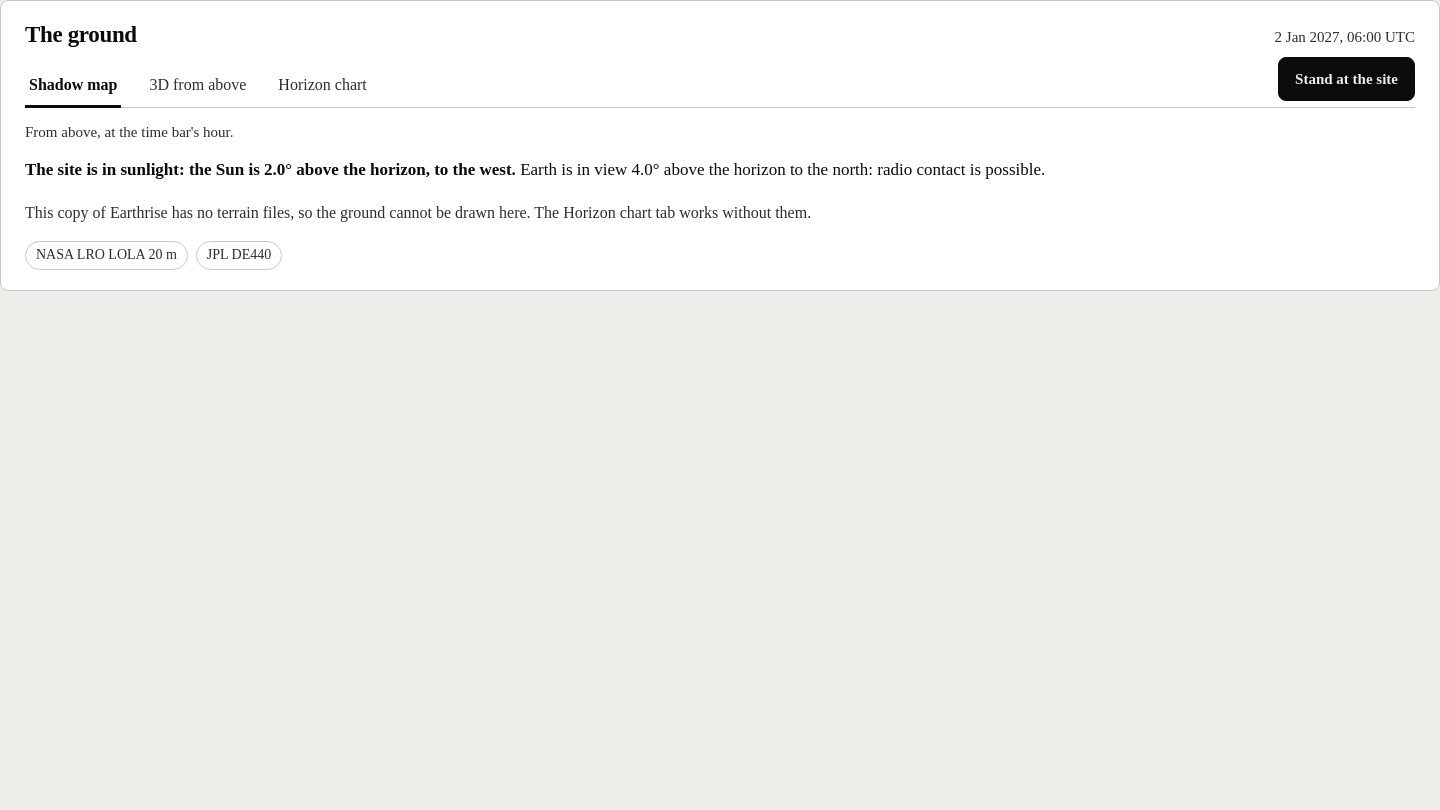
Test case: GroundPanel › titles the picture, says which hour it shows and mounts the 3D view in its tab
Click the tab "3D from above".
click(198, 86)  # box x1=146 y1=64 x2=250 y2=108
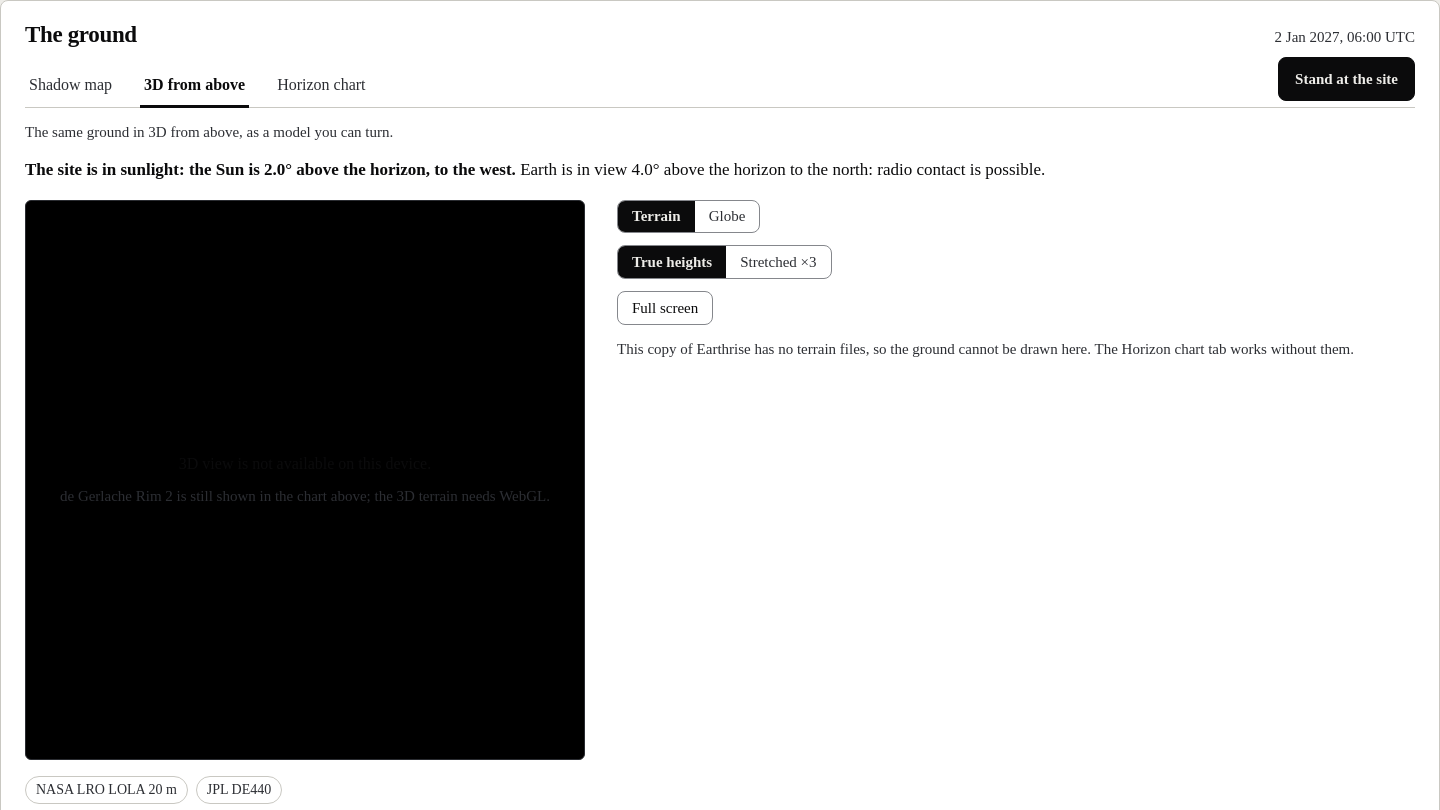
Expected: the element "The ground" shows "2 Jan 2027, 06:00 UTC", x1=1275 y1=29 x2=1415 y2=45
Expected: the message shows "de Gerlache Rim 2 is still shown in the chart above", x1=60 y1=455 x2=550 y2=504
